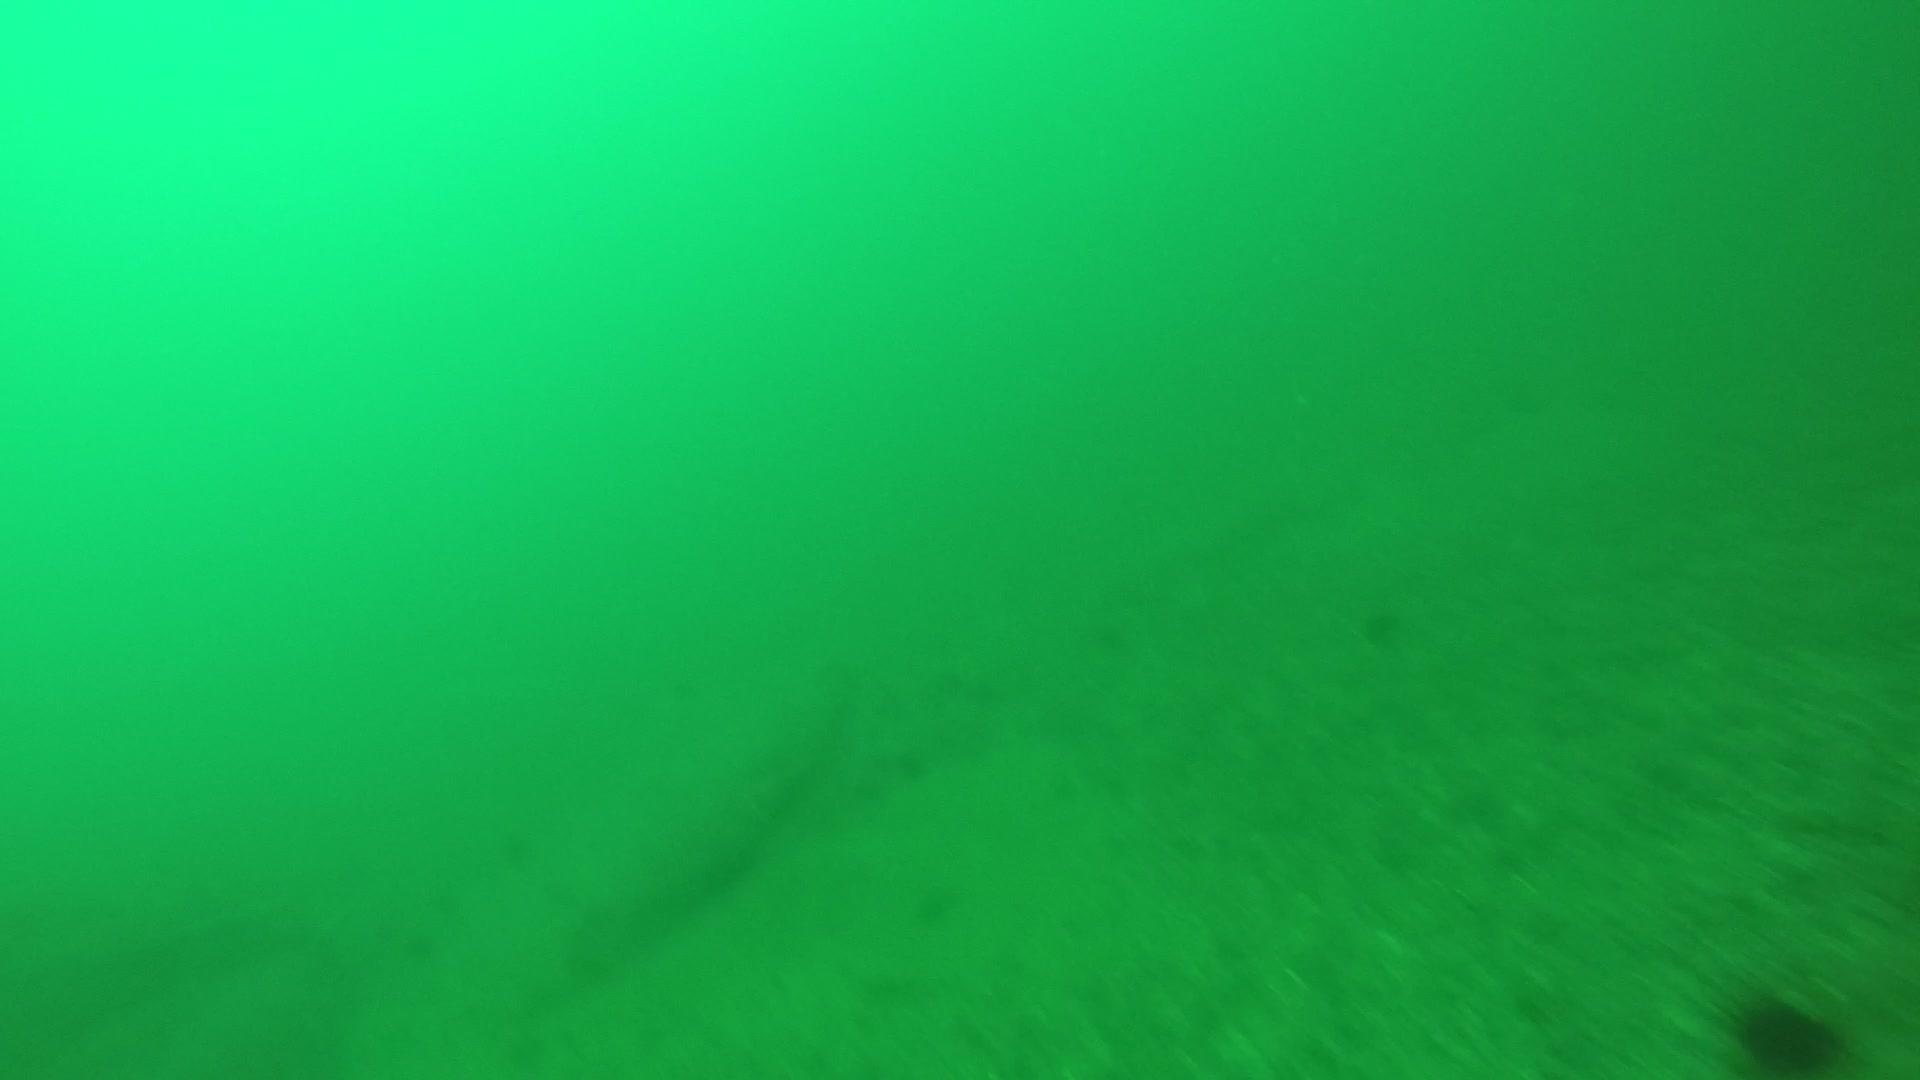echinus: (1726, 986, 1847, 1072), (1356, 596, 1408, 649)
